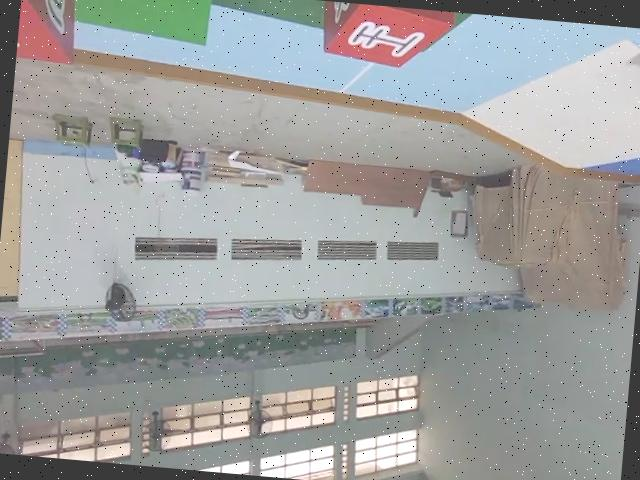R2 Fake: (313, 0, 455, 76), (14, 0, 82, 68)
